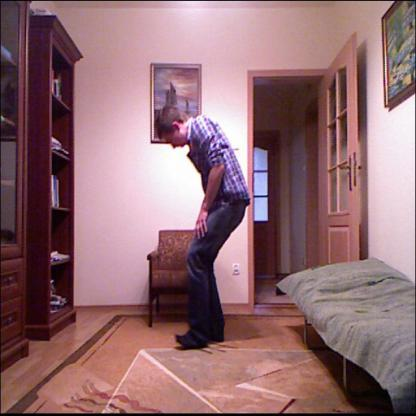normal: (158, 108, 250, 352)
